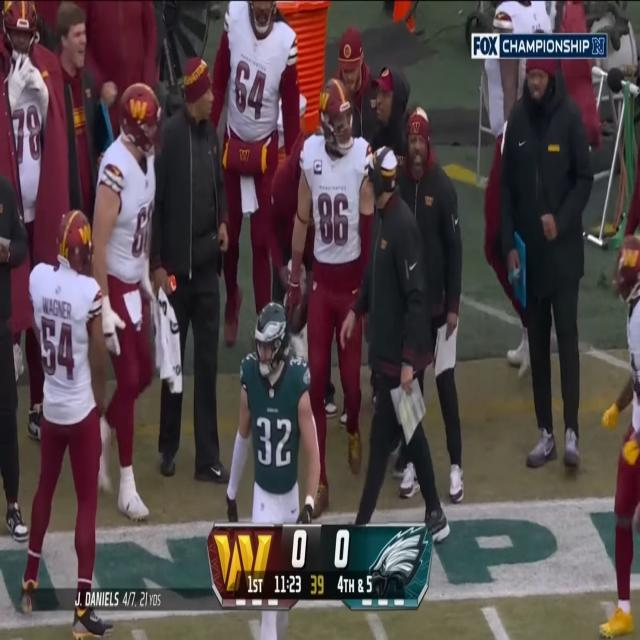Ball: (292, 288, 308, 339)
